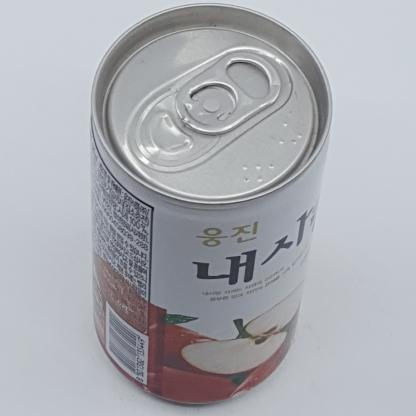-------180ML: (89, 2, 333, 404)
